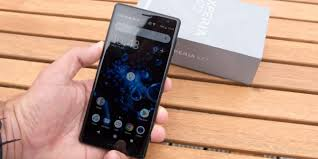sony: (75, 1, 182, 159)
